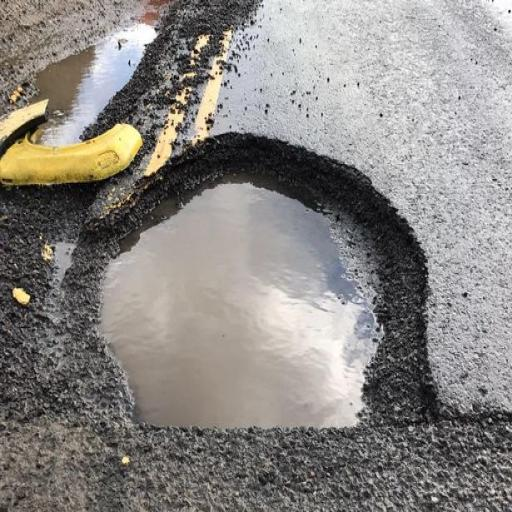pothole: (74, 132, 428, 485)
